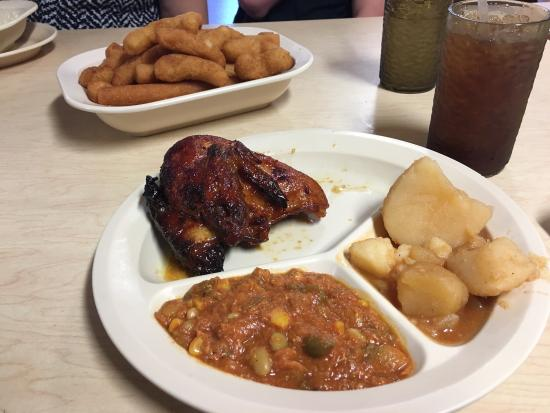boiled potatoes: (383, 157, 480, 244), (454, 240, 529, 293), (403, 262, 469, 313), (352, 240, 404, 276)
